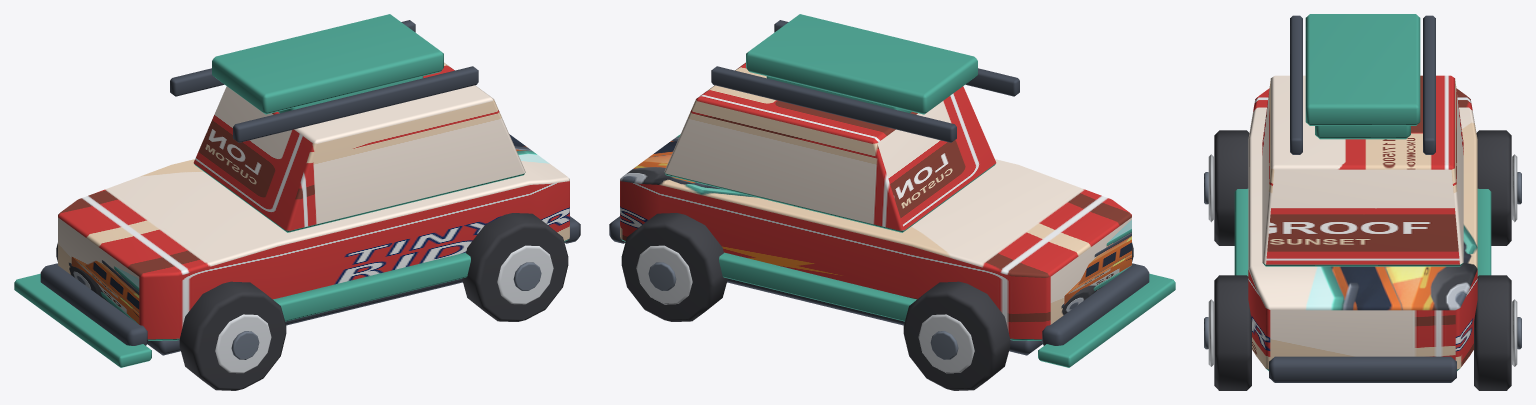
3 views of the same model, side by side, from view 1: azimuth 30°, elevation 25°; view 2: azimuth 150°, elevation 25°; view 3: azimuth 270°, elevation 25° (orthographic). The views are drawn at different scales.
Visible parts, largest first — view 1: RR-02_connected_shell, RR-02_cabin, utility load, Tire, Tire.002, utility rail, custom side guard, custom chin, front bumper, Rim, Rim.002, underbody (+3 smaller); view 2: RR-02_connected_shell, RR-02_cabin, utility load, Tire.001, Tire.003, utility rail.001, custom side guard.001, custom chin, front bumper, Rim.001, Rim.003, underbody (+3 smaller); view 3: RR-02_cabin, RR-02_connected_shell, utility load, rear bumper, Tire.002, Tire.003, Tire, Tire.001, utility rail, utility rail.001, custom equipment, custom side guard (+5 smaller).
Boxes of the visible parts, left/top/right/bottom form: RR-02_connected_shell: left=58, top=134, right=569, bottom=340; RR-02_cabin: left=193, top=62, right=525, bottom=232; utility load: left=212, top=14, right=443, bottom=114; Tire: left=179, top=281, right=286, bottom=390; Tire.002: left=462, top=213, right=568, bottom=321; utility rail: left=233, top=66, right=478, bottom=142; custom side guard: left=273, top=252, right=470, bottom=321; custom chin: left=14, top=273, right=151, bottom=367; front bumper: left=40, top=263, right=148, bottom=345; Rim: left=215, top=314, right=271, bottom=373; Rim.002: left=497, top=245, right=553, bottom=304; underbody: left=147, top=278, right=462, bottom=355; RR-02_connected_shell: left=620, top=134, right=1131, bottom=340; RR-02_cabin: left=664, top=62, right=996, bottom=232; utility load: left=746, top=14, right=977, bottom=114; Tire.001: left=903, top=281, right=1010, bottom=390; Tire.003: left=621, top=213, right=727, bottom=321; utility rail.001: left=711, top=66, right=956, bottom=142; custom side guard.001: left=719, top=252, right=916, bottom=321; custom chin: left=1038, top=273, right=1175, bottom=367; front bumper: left=1041, top=263, right=1149, bottom=345; Rim.001: left=918, top=314, right=974, bottom=373; Rim.003: left=636, top=245, right=692, bottom=304; underbody: left=727, top=278, right=1042, bottom=355; RR-02_cabin: left=1262, top=75, right=1463, bottom=266; RR-02_connected_shell: left=1248, top=88, right=1477, bottom=370; utility load: left=1305, top=14, right=1420, bottom=125; rear bumper: left=1269, top=356, right=1456, bottom=382; Tire.002: left=1214, top=275, right=1251, bottom=390; Tire.003: left=1474, top=275, right=1511, bottom=390; Tire: left=1214, top=130, right=1249, bottom=245; Tire.001: left=1476, top=130, right=1511, bottom=245; utility rail: left=1290, top=15, right=1302, bottom=154; utility rail.001: left=1423, top=15, right=1435, bottom=154; custom equipment: left=1315, top=126, right=1410, bottom=139; custom side guard: left=1234, top=188, right=1248, bottom=276.
Bounding box in the file's own units: 395 × 199 × 219.
